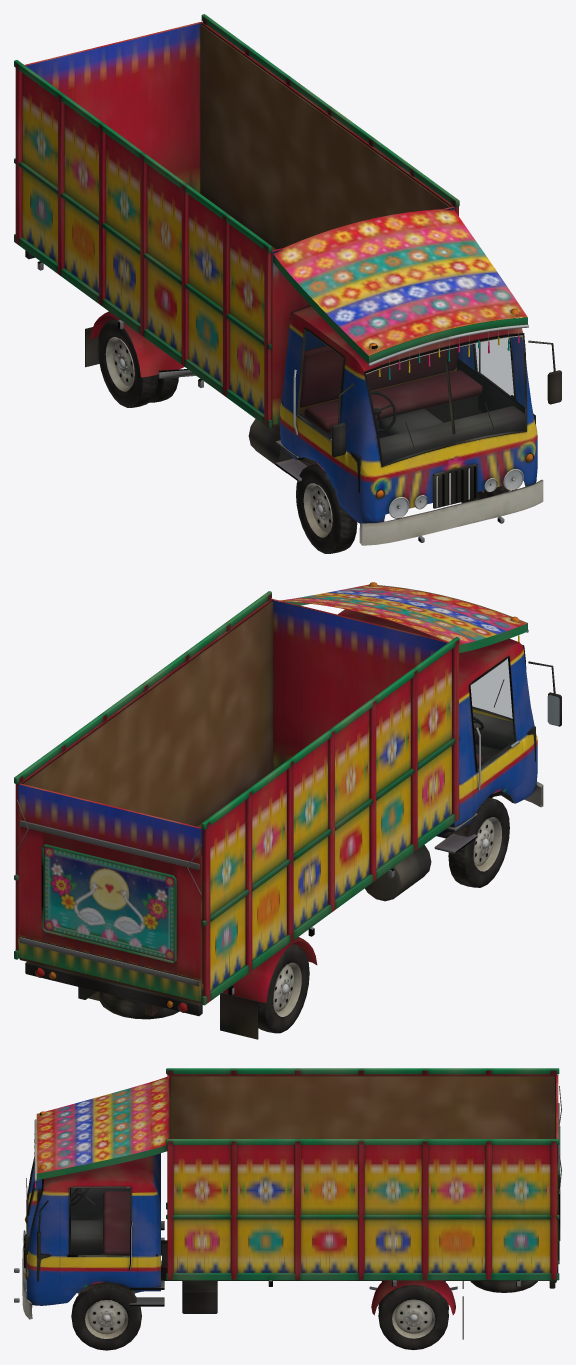
Rendered from truck.glb.
3 renders of one model, top to bottom at view 1: azimuth 30°, elevation 25°; view 2: azimuth 150°, elevation 25°; view 3: azimuth 270°, elevation 25°, orthographic. The views are drawn at different scales.
Parts seen in each view (by area): view 1: body, glass, door_D, wheel_RR, wheel_FR, door_D_glass; view 2: body, door_D, wheel_FR, door_D_glass, wheel_RR, glass; view 3: body, glass, wheel_RL, wheel_FL, door_D.
Boxes of the visible parts, <box> form: body: <box>14,14,561,545</box>; glass: <box>366,336,524,516</box>; door_D: <box>293,325,353,504</box>; wheel_RR: <box>98,318,178,407</box>; wheel_FR: <box>296,464,357,553</box>; door_D_glass: <box>299,331,342,437</box>; body: <box>14,582,561,1039</box>; door_D: <box>465,649,524,821</box>; wheel_FR: <box>448,797,509,887</box>; door_D_glass: <box>471,659,514,768</box>; wheel_RR: <box>258,944,309,1033</box>; glass: <box>471,659,511,717</box>; body: <box>14,1068,561,1339</box>; glass: <box>23,1167,129,1286</box>; wheel_RL: <box>378,1284,448,1350</box>; wheel_FL: <box>71,1285,141,1350</box>; door_D: <box>71,1187,129,1214</box>.
Bounding box in the file's own units: 2.89 × 3.38 × 7.75.
Materials: 2 (1 with a texture image).
